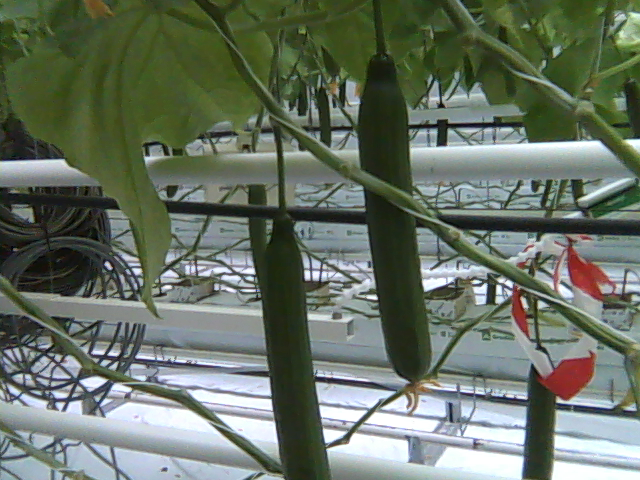concombre: (353, 47, 446, 419), (258, 206, 334, 480)
